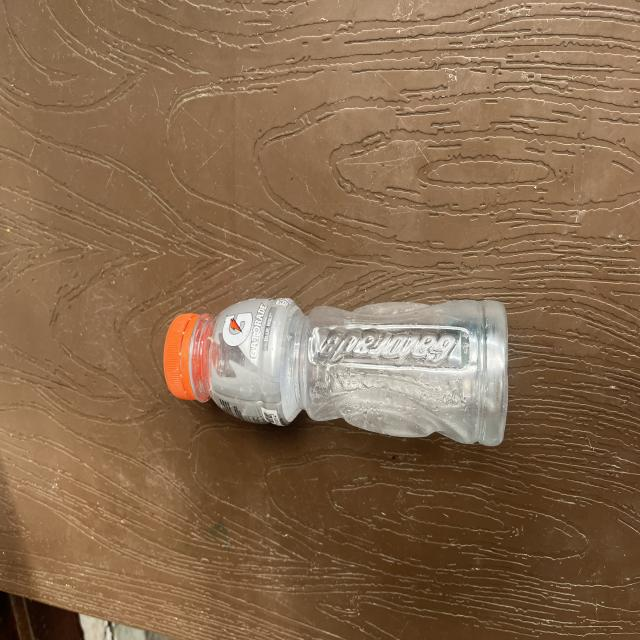REJECT: (148, 284, 585, 453)
